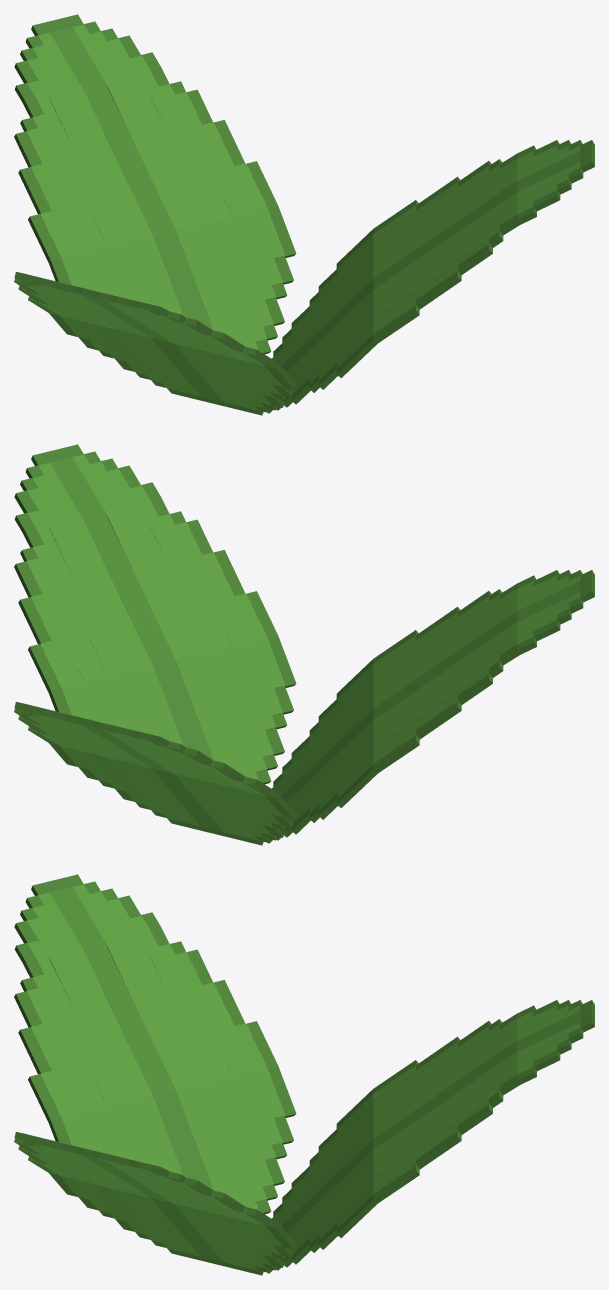
The model's file is Herbe3Dmodel.glb.
3 views of the same model, one above another, from view 1: azimuth 30°, elevation 25°; view 2: azimuth 150°, elevation 25°; view 3: azimuth 270°, elevation 25° (orthographic).
Parts seen in each view (by area): view 1: Herbe3Dmodel; view 2: Herbe3Dmodel; view 3: Herbe3Dmodel.
Part boxes in pixels (box(x1,y1,x2,y2)): Herbe3Dmodel: box(14, 14, 594, 415); Herbe3Dmodel: box(14, 444, 594, 845); Herbe3Dmodel: box(14, 874, 594, 1275).
Bounding box in the file's own units: 1.79 × 0.7314 × 1.6.
Materials: 1 (1 with a texture image).
